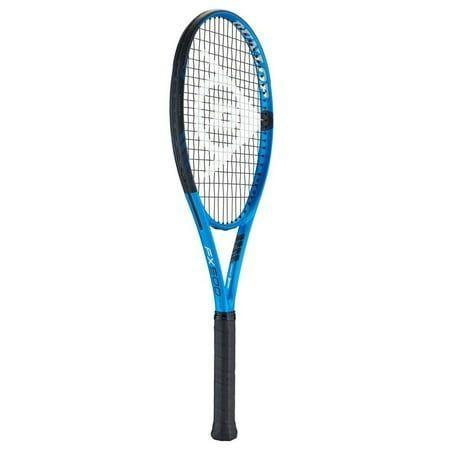Tennis-Racket: (168, 10, 275, 440)
